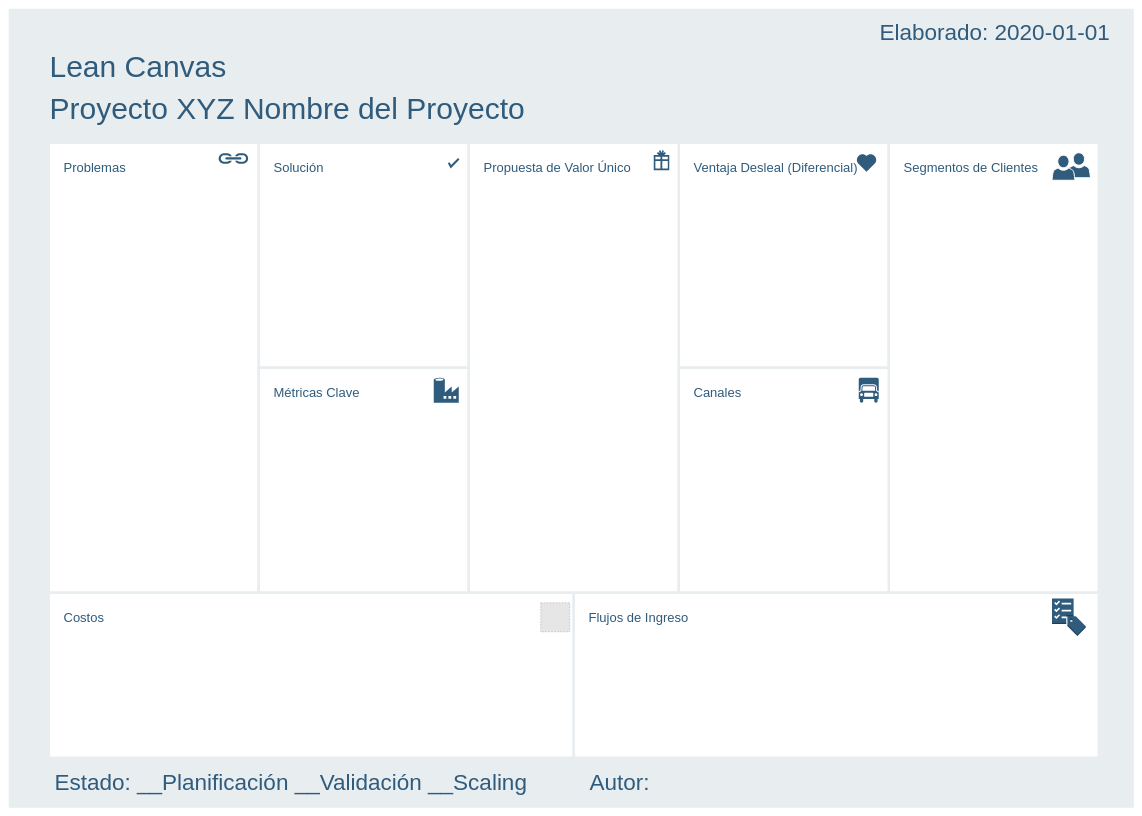
Image size: 1142x816. Some labels were removed from this diagram. Grey dashed boxes stand in for pictures. Each missing label, with the centre of its shape:
"Alternativas" belongs at pixel 154 520.
"Early Adopters" belongs at pixel 992 538.
